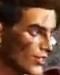kevin: (5, 3, 50, 74)
